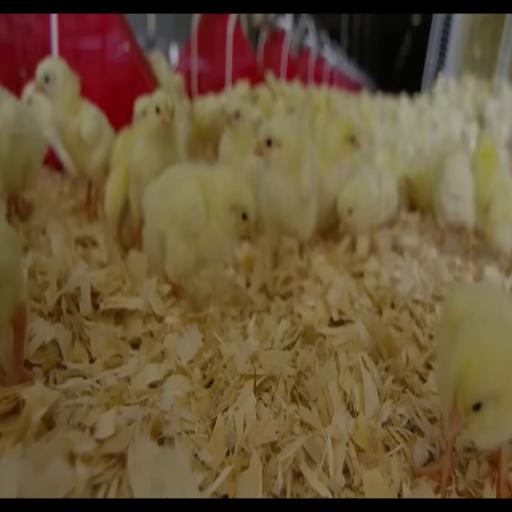chick: (417, 282, 511, 497), (143, 164, 256, 295), (35, 57, 115, 218), (255, 116, 318, 265), (129, 90, 178, 246), (105, 95, 149, 240), (0, 87, 47, 219), (21, 82, 77, 176), (0, 216, 31, 385), (315, 118, 358, 231), (336, 165, 399, 237), (434, 144, 476, 250), (479, 169, 511, 266), (219, 100, 263, 164)
